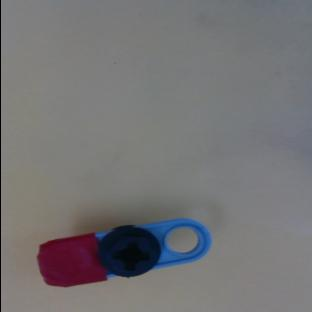part_1_good: (33, 213, 214, 291)
